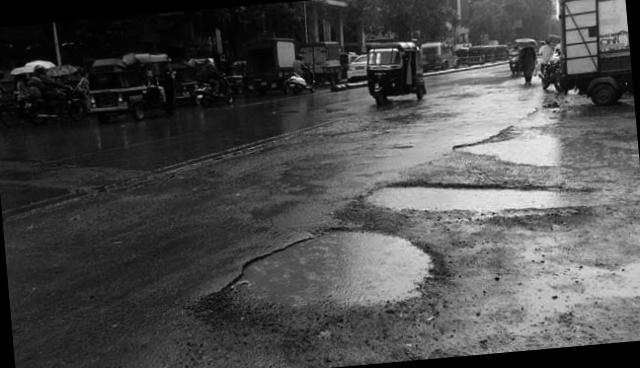Pothole: (177, 204, 456, 343), (367, 154, 608, 238), (453, 80, 640, 187)
